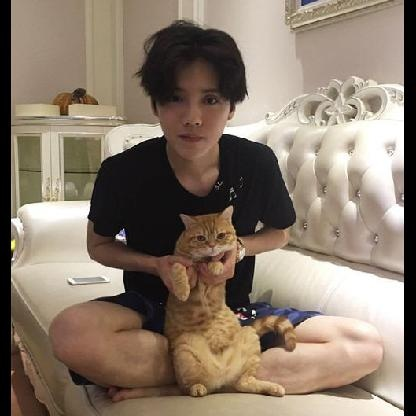人: (50, 19, 384, 399)
猫: (164, 203, 294, 396)
